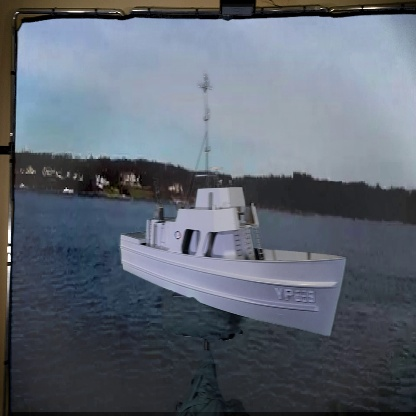YP689: (119, 78, 347, 338)
